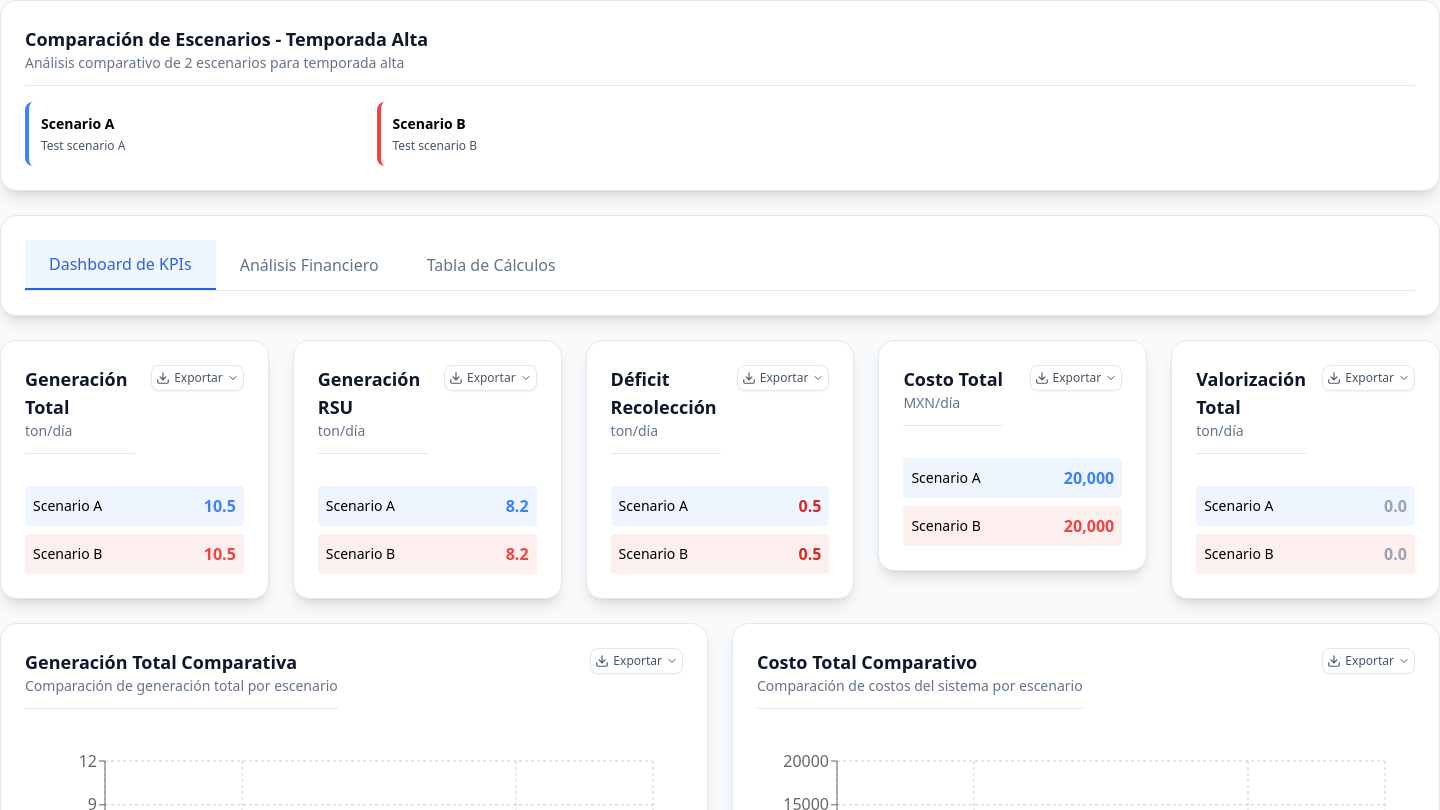
Test: ComparisonDashboard › should switch to financial analysis when tab is clicked
Click the button "Análisis Financiero" at [309, 265], box [216,240,403,290]
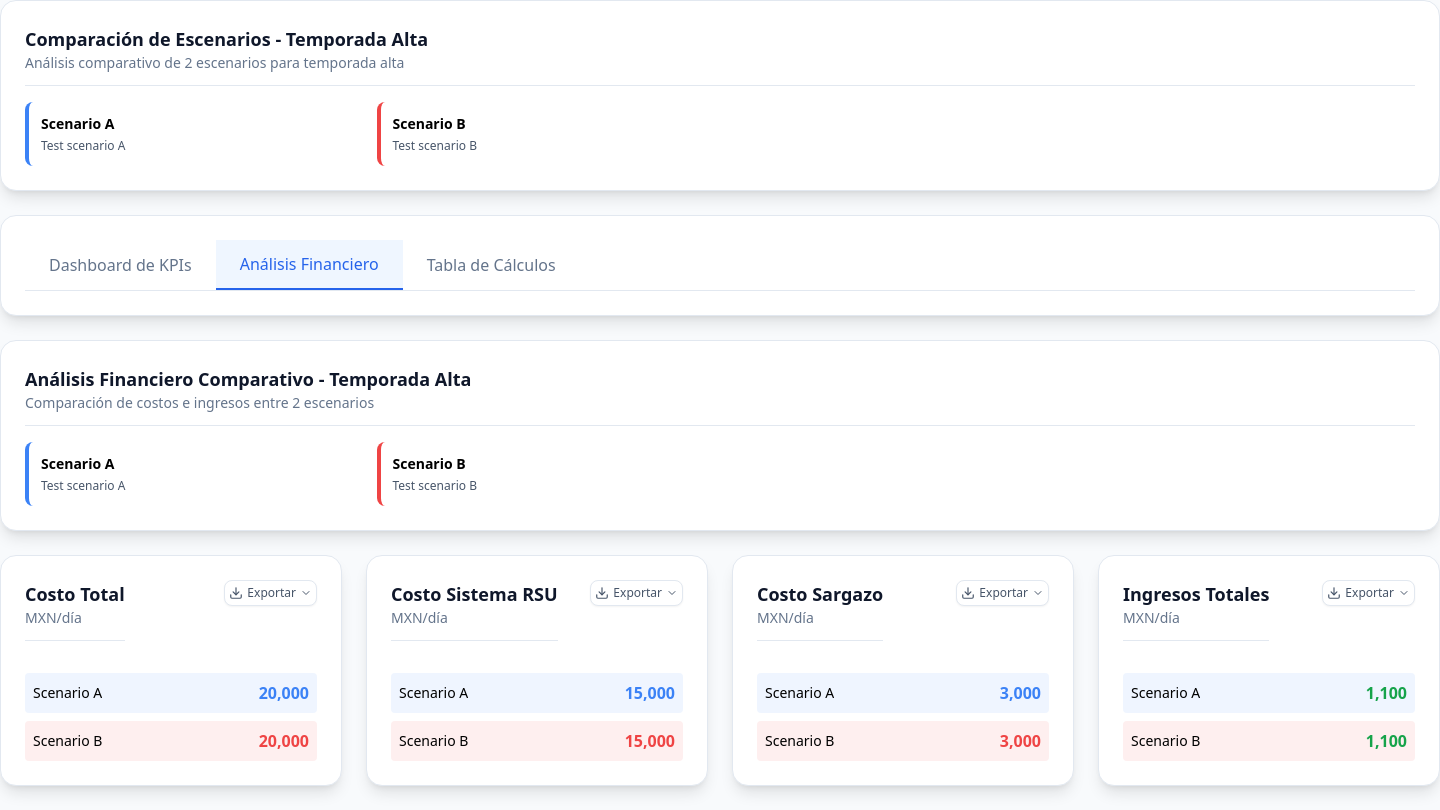
Expected: the heading "Análisis Financiero Comparativo - Temporada Alta" is shown, [25,365,471,393]
